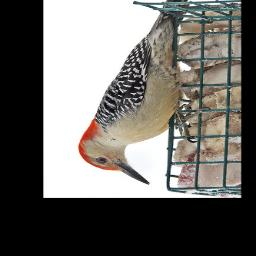Woodpecker: (78, 0, 198, 188)
